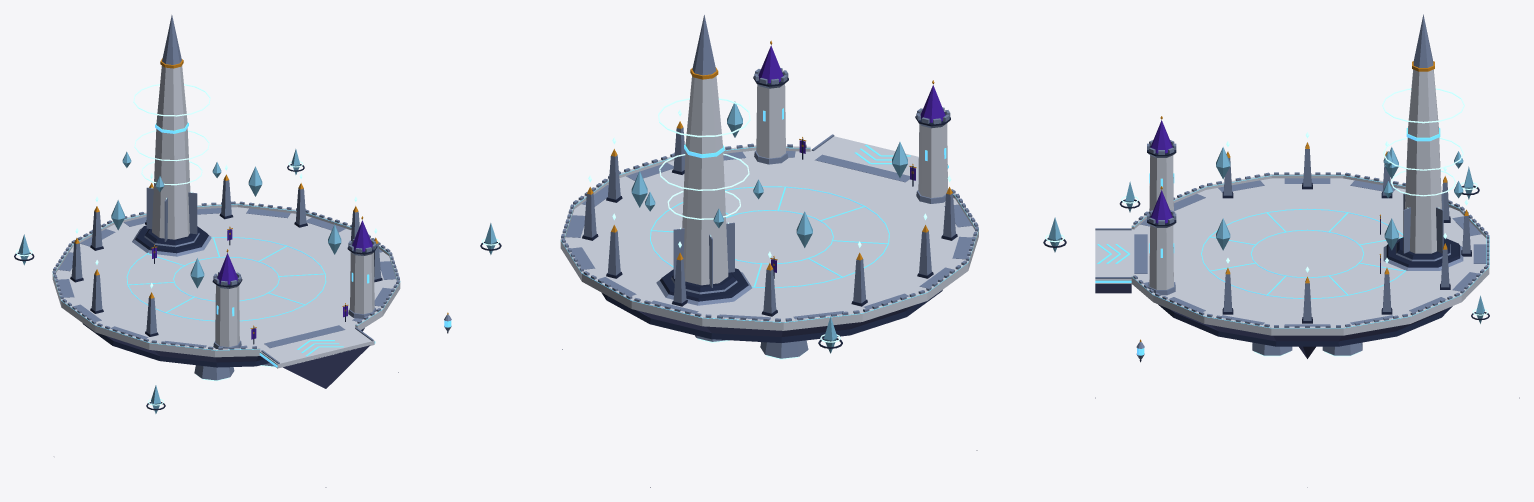
Rendered from chunk_boss_clearing.fbx.
3 renders of one model, left to right at view 1: azimuth 30°, elevation 25°; view 2: azimuth 150°, elevation 25°; view 3: azimuth 270°, elevation 25°, orthographic. The views are drawn at different scales.
Parts seen in each view (by area): view 1: chunk_boss_clearing; view 2: chunk_boss_clearing; view 3: chunk_boss_clearing.
Boxes of the visible parts, x1,y1,x2,y2 form: chunk_boss_clearing: [14, 15, 451, 487]; chunk_boss_clearing: [480, 15, 1066, 487]; chunk_boss_clearing: [1095, 14, 1519, 487].
Bounding box in the file's own units: 256 × 256 × 256.
